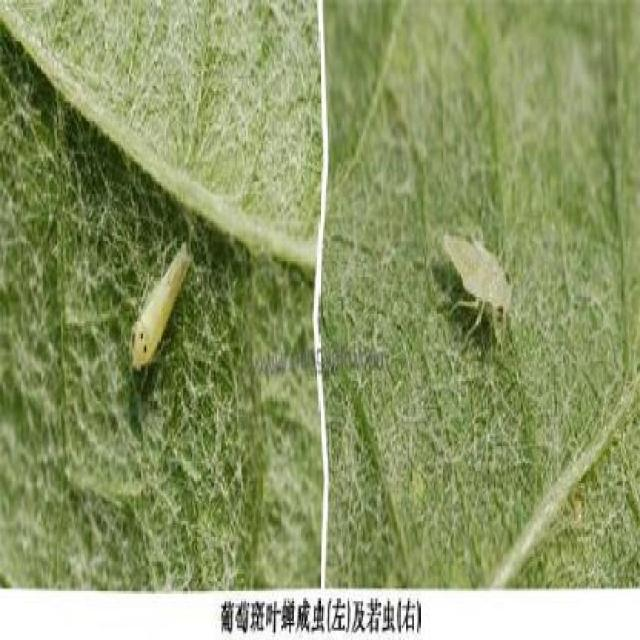green-leafhopper: (129, 236, 194, 390), (442, 228, 516, 360)
